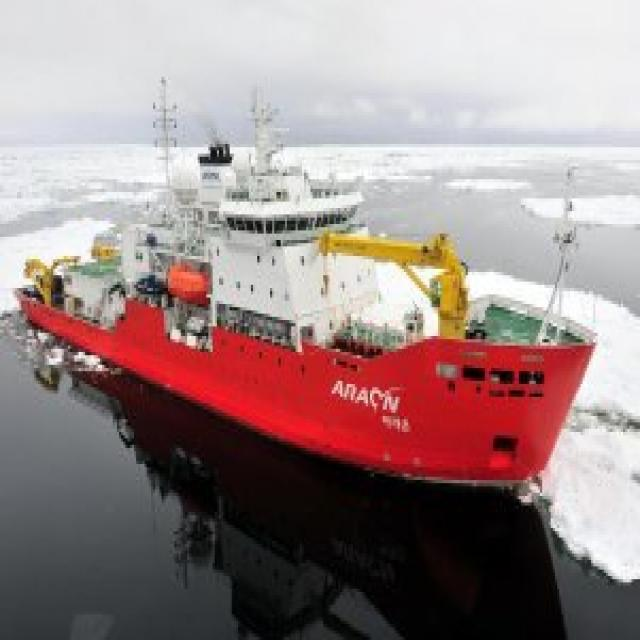Ship: (12, 62, 608, 513)
